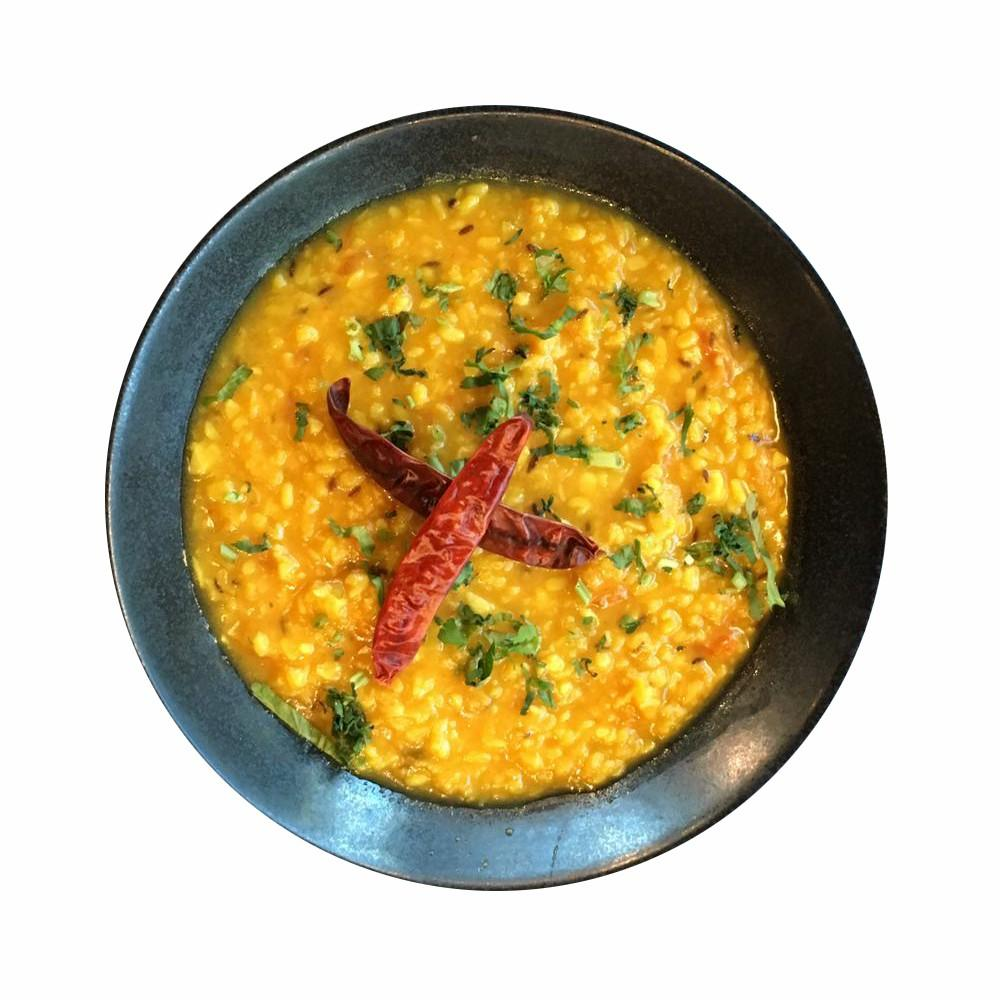Dal: (177, 172, 784, 797)
